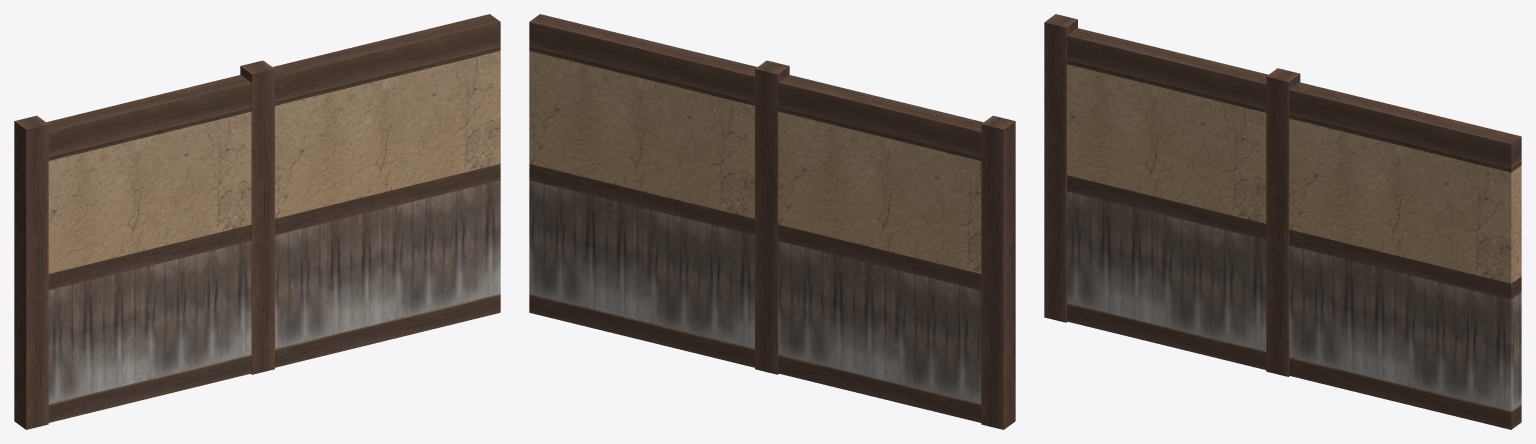
Rendered from fence10a_2t.fbx.
The picture shows the model from 3 angles, left to right: view 1: azimuth 30°, elevation 25°; view 2: azimuth 150°, elevation 25°; view 3: azimuth 330°, elevation 25°; orthographic projection.
Visible parts, largest first — view 1: fence10a_2t; view 2: fence10a_2t; view 3: fence10a_2t.
Boxes of the visible parts, bbox=[...] form: fence10a_2t: bbox=[14, 14, 500, 429]; fence10a_2t: bbox=[529, 14, 1015, 429]; fence10a_2t: bbox=[1044, 14, 1521, 429].
Size of the model in its own units: 440 by 266 by 18.84.
